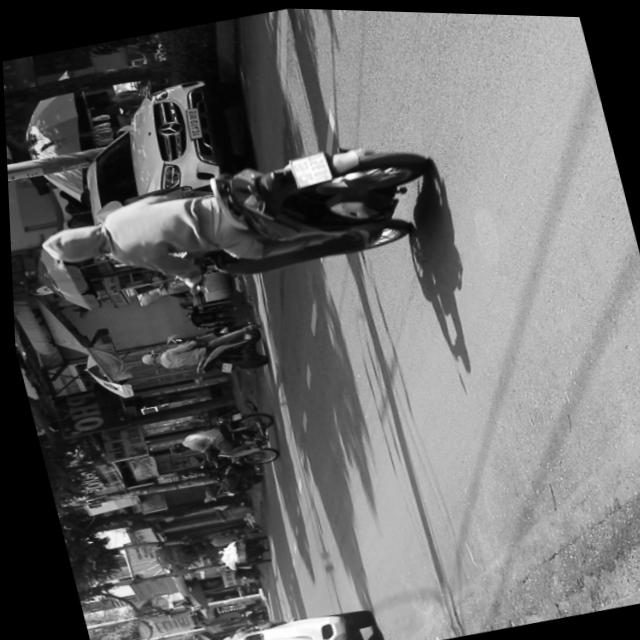helmet: (35, 217, 110, 270), (134, 349, 156, 366)
licenseplate: (22, 114, 452, 326), (129, 317, 265, 391)
nohelmet: (284, 149, 329, 187)
